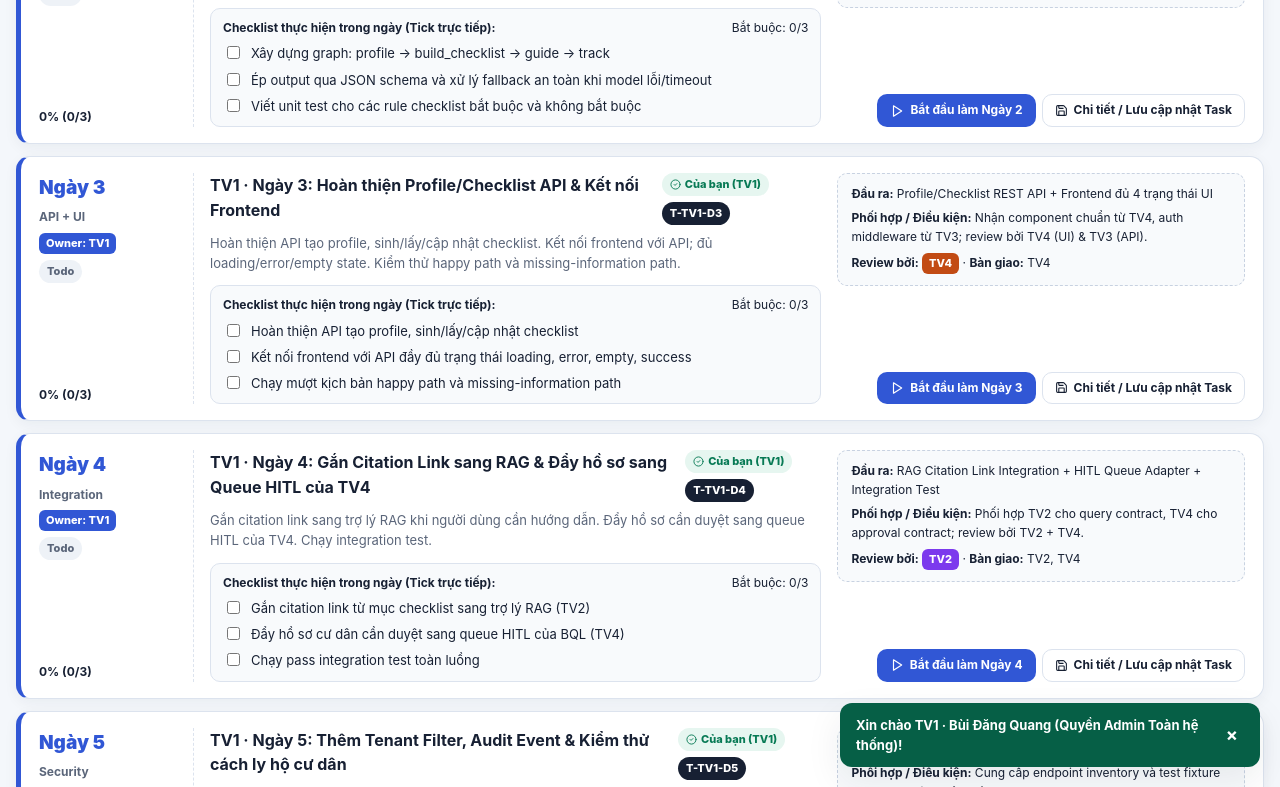
Test: MoveInMate Tracker UI Smoke, RBAC Login & 7-Day Roadmap Flow › allows Admin (TV1 · Bùi Đăng Quang) to interact with all tasks and enforces Quality Gate before Done
This screenshot has width=1280, height=787.
Earlier steps of the test are not shown.
(page scrolled)
Click the button "Bắt đầu làm Ngày 3". click: (956, 388)
box: x1=877 y1=372 x2=1036 y2=404
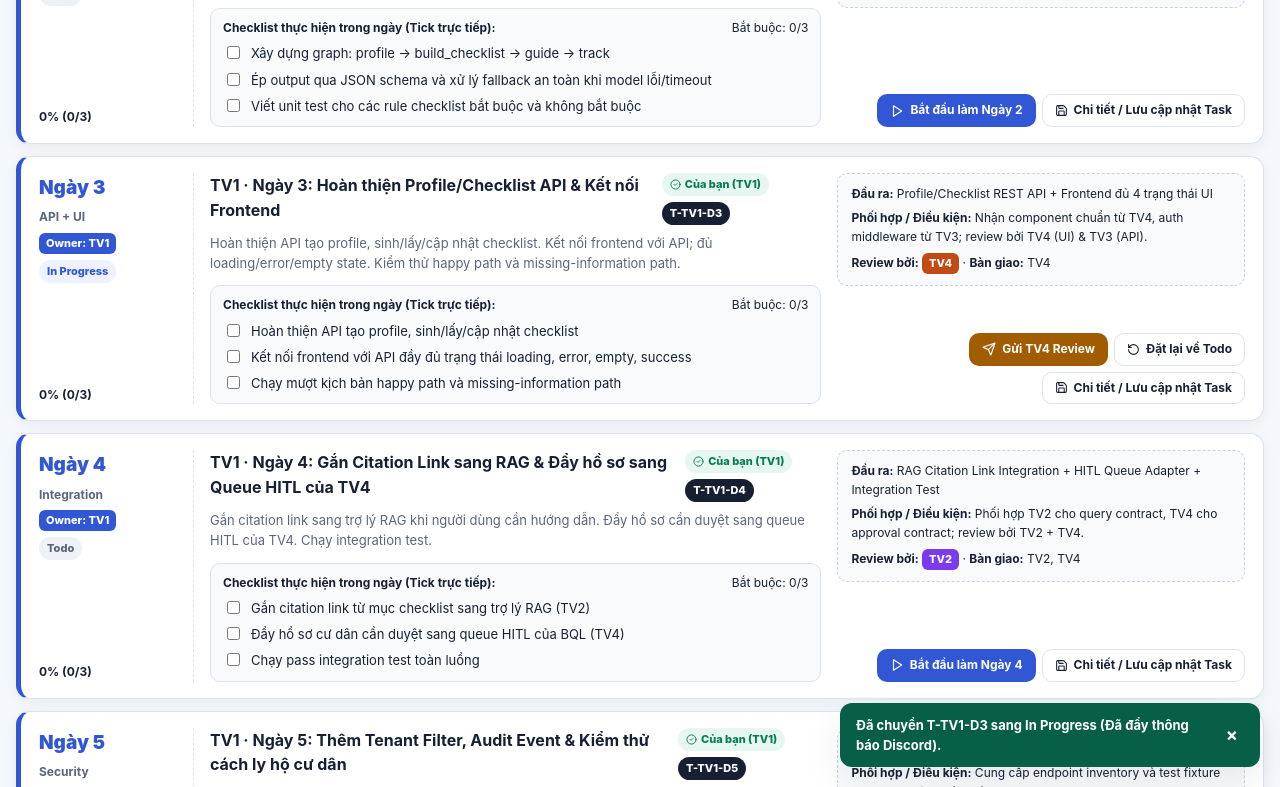
Click the heading "TV1 · Ngày 3: Hoàn thiện Profile/Checklist API & Kết nối Frontend". click: (431, 198)
box: x1=210 y1=173 x2=652 y2=222
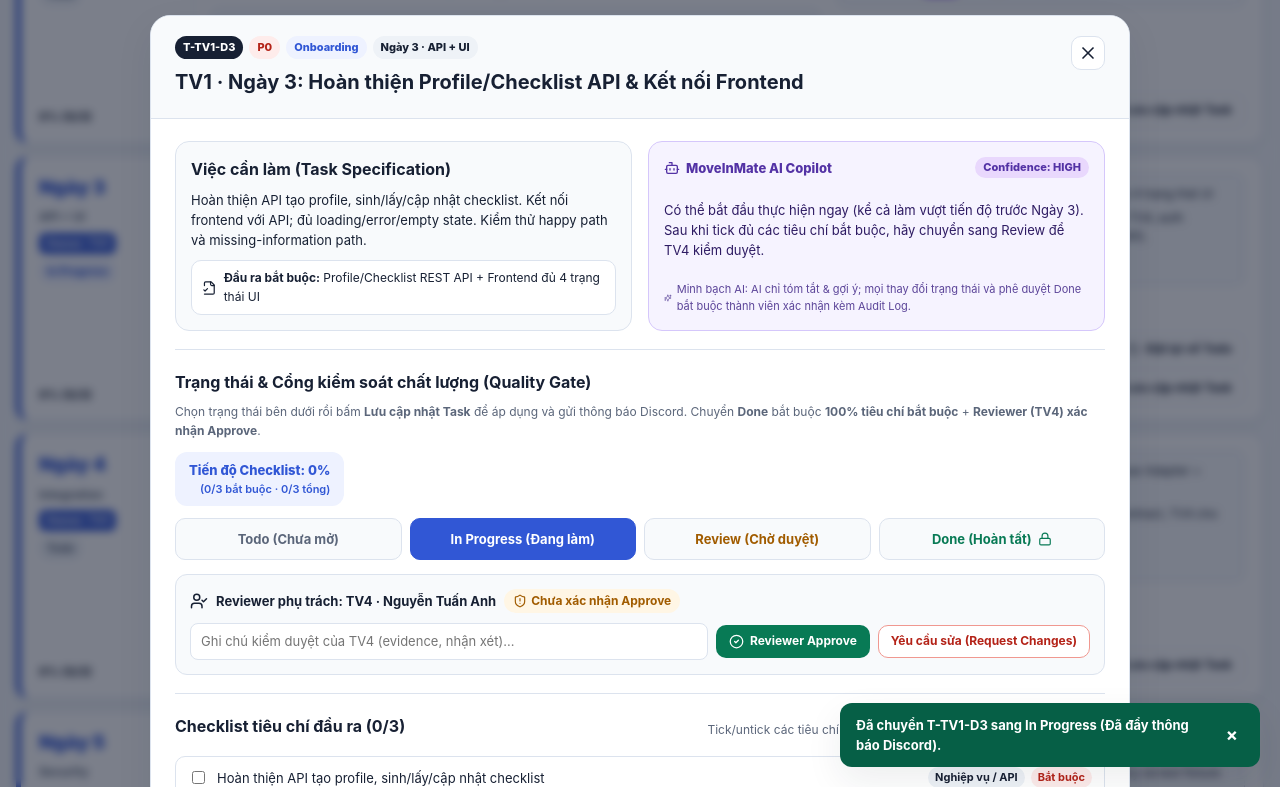
Click the checkbox. click: (198, 777)
box: x1=192 y1=771 x2=205 y2=784
(page scrolled)
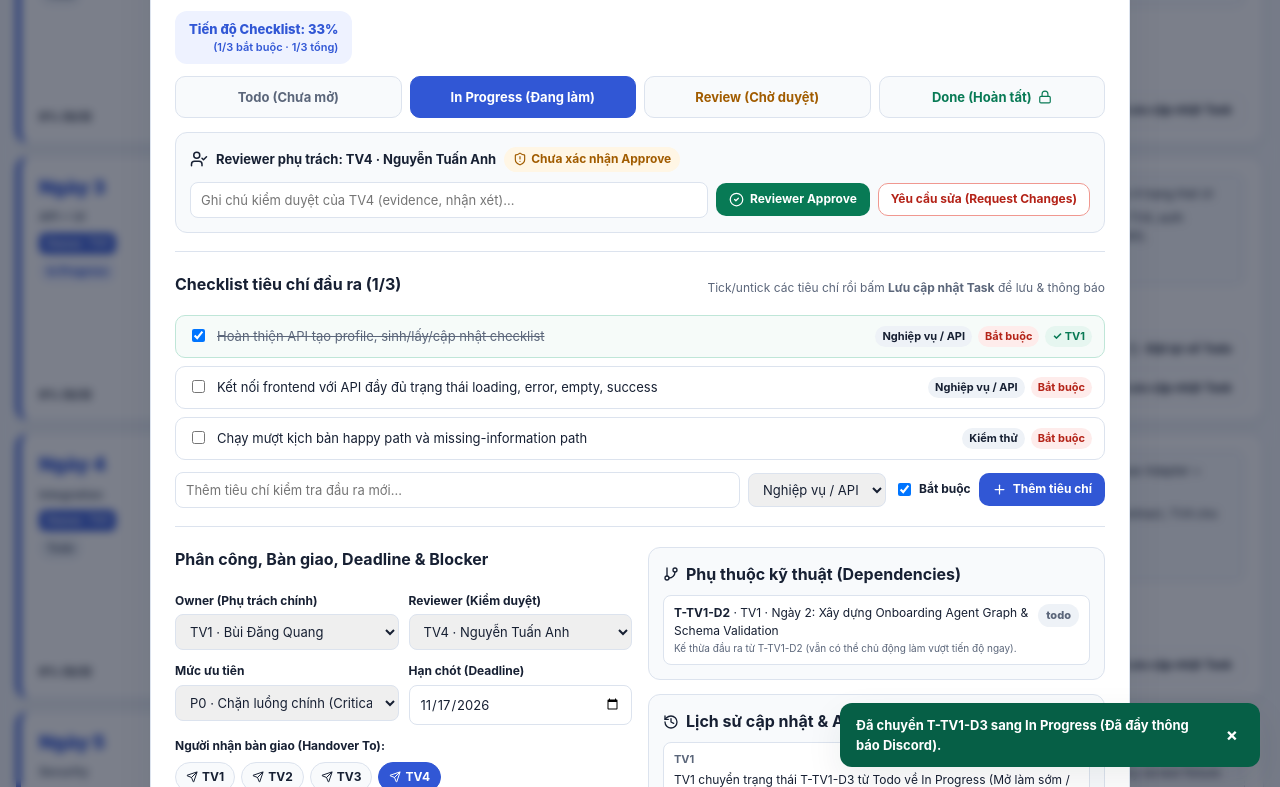
Click the 2nd checkbox. click: (198, 387)
box: x1=192 y1=380 x2=205 y2=393
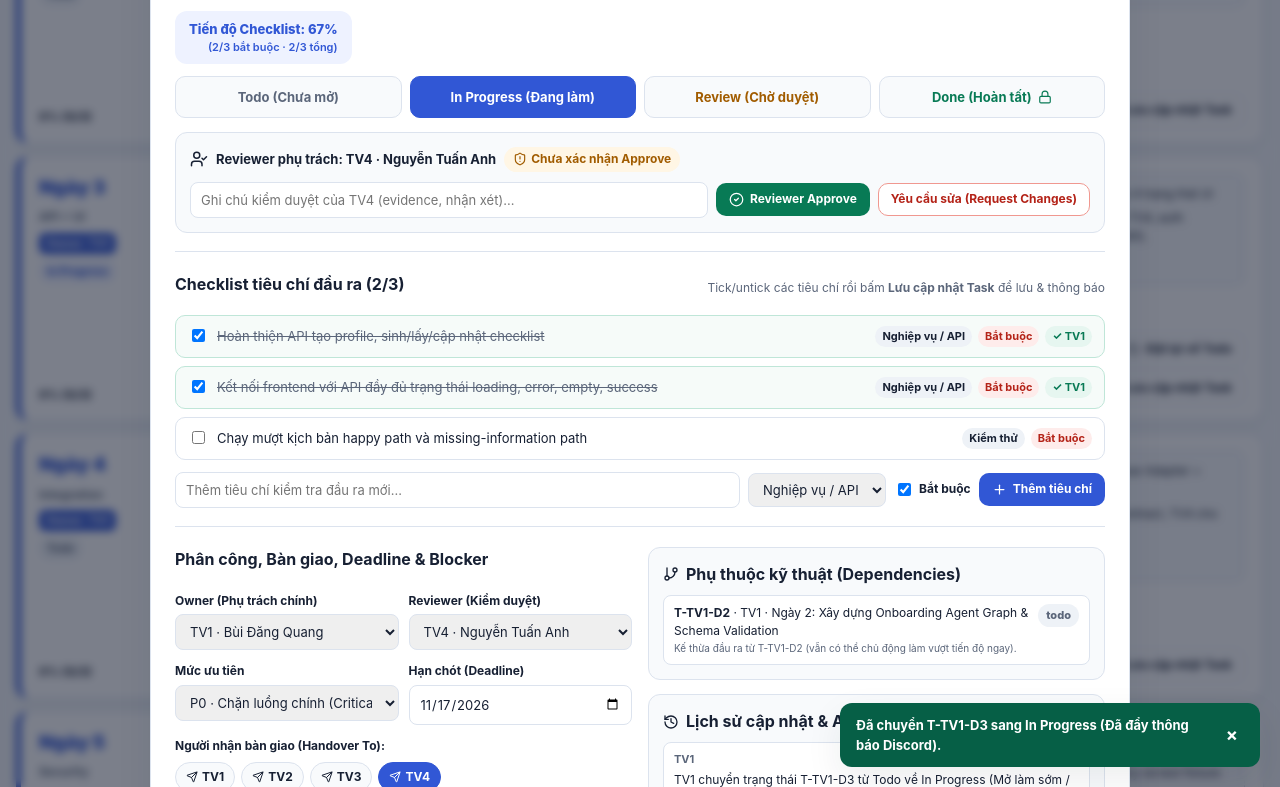
Click the checkbox labelled "Chạy mượt kịch bản happy path và missing-information path". click: (198, 438)
box: x1=192 y1=431 x2=205 y2=444
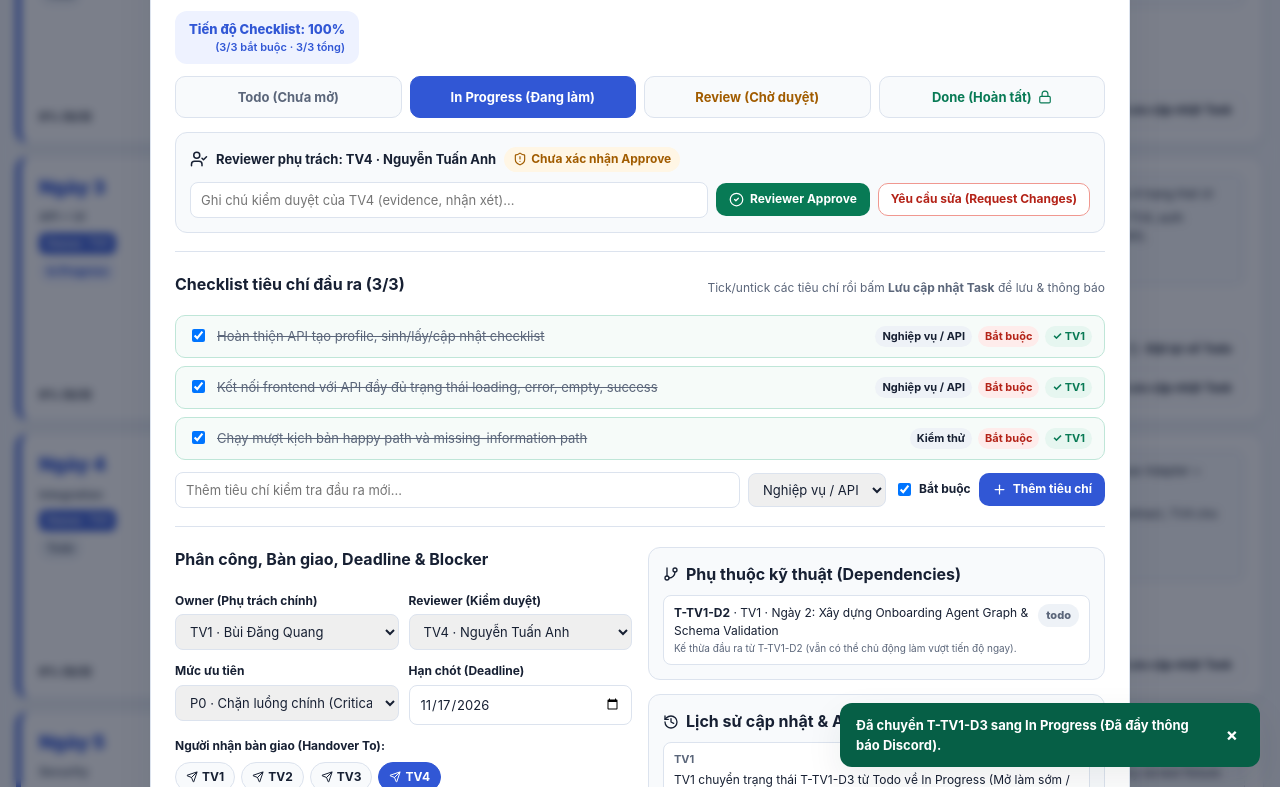
Click the button "Done (Hoàn tất)". click: (992, 97)
box: x1=878 y1=76 x2=1105 y2=118
(page scrolled)
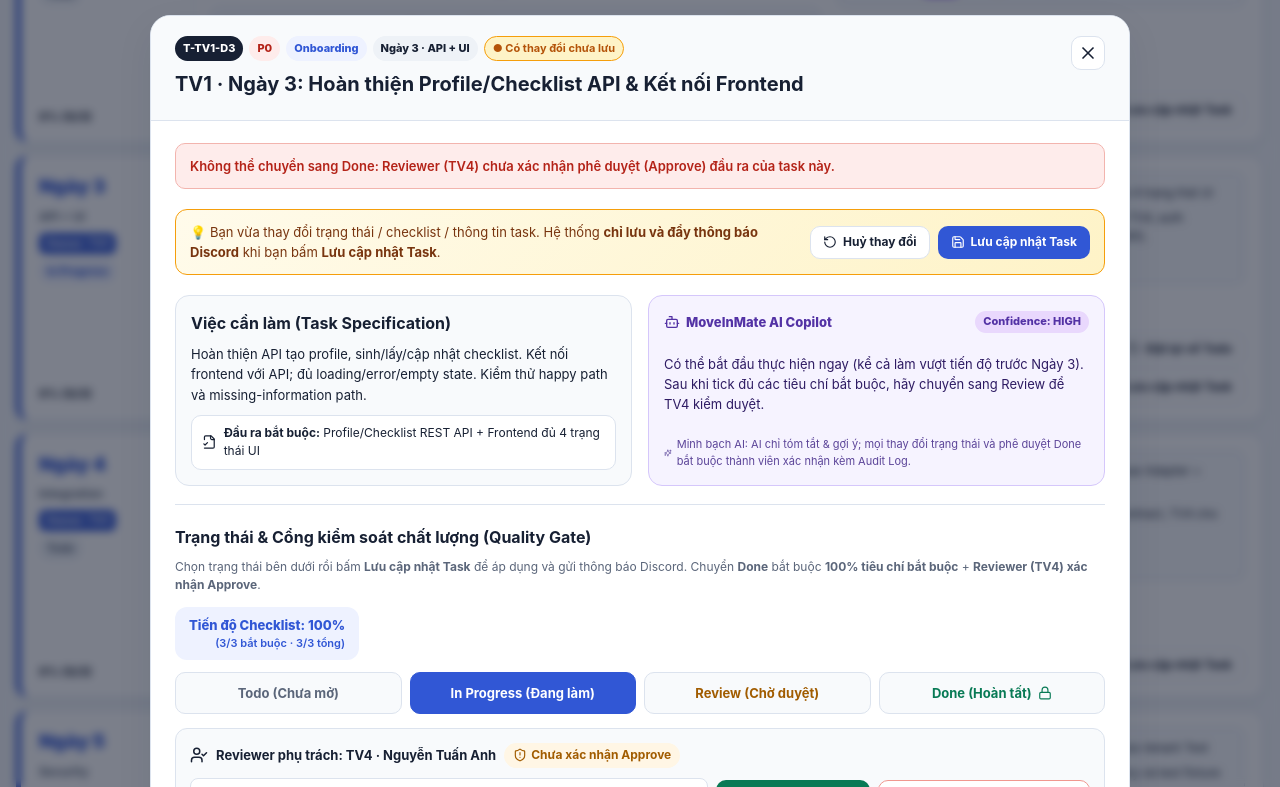
Check: the text "Không thể chuyển sang Done: Reviewer (TV4) chưa xác nhận phê duyệt" is shown, box x1=190 y1=158 x2=835 y2=174
